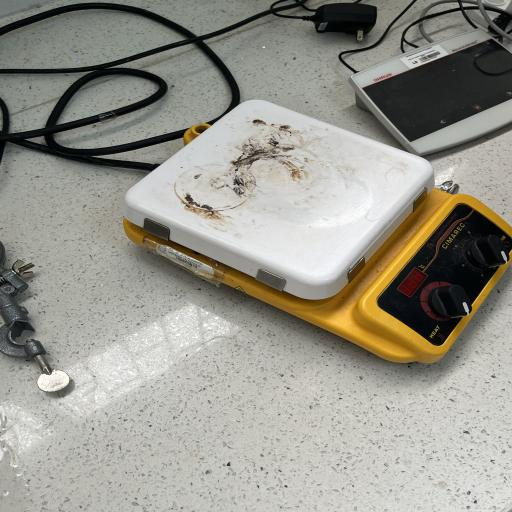Plancha_Agitacion_Cimarec: (107, 88, 512, 376)
